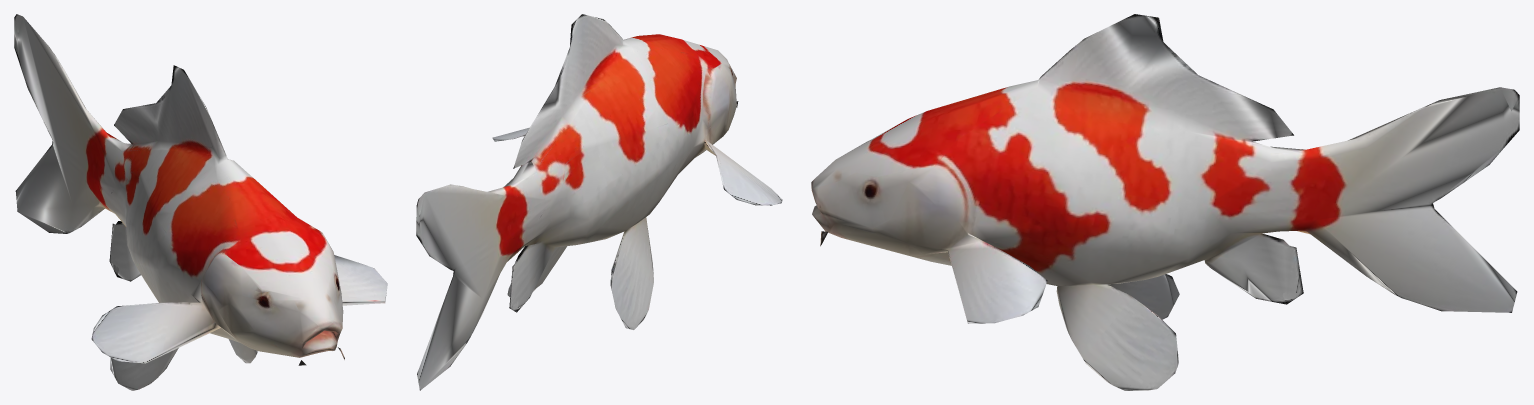
The model's file is koi-kohaku_lo.glb.
The picture shows the model from 3 angles, left to right: view 1: azimuth 30°, elevation 25°; view 2: azimuth 150°, elevation 25°; view 3: azimuth 270°, elevation 25°; orthographic projection. The views are drawn at different scales.
Parts seen in each view (by area): view 1: geometry_0; view 2: geometry_0; view 3: geometry_0.
Part boxes in pixels (bbox=[...]): geometry_0: bbox=[14, 14, 387, 390]; geometry_0: bbox=[416, 14, 782, 390]; geometry_0: bbox=[811, 14, 1519, 390].
Size of the model in its own units: 0.5264 by 0.5371 by 0.9983.
1 material, 1 textured.
